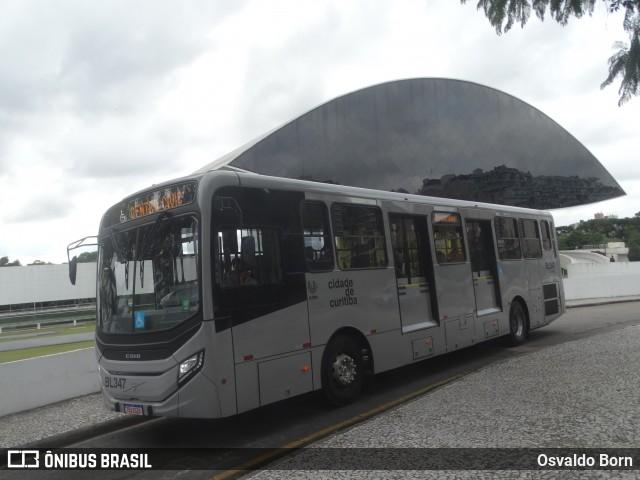CENTRO CIVICO: (127, 187, 187, 224)
